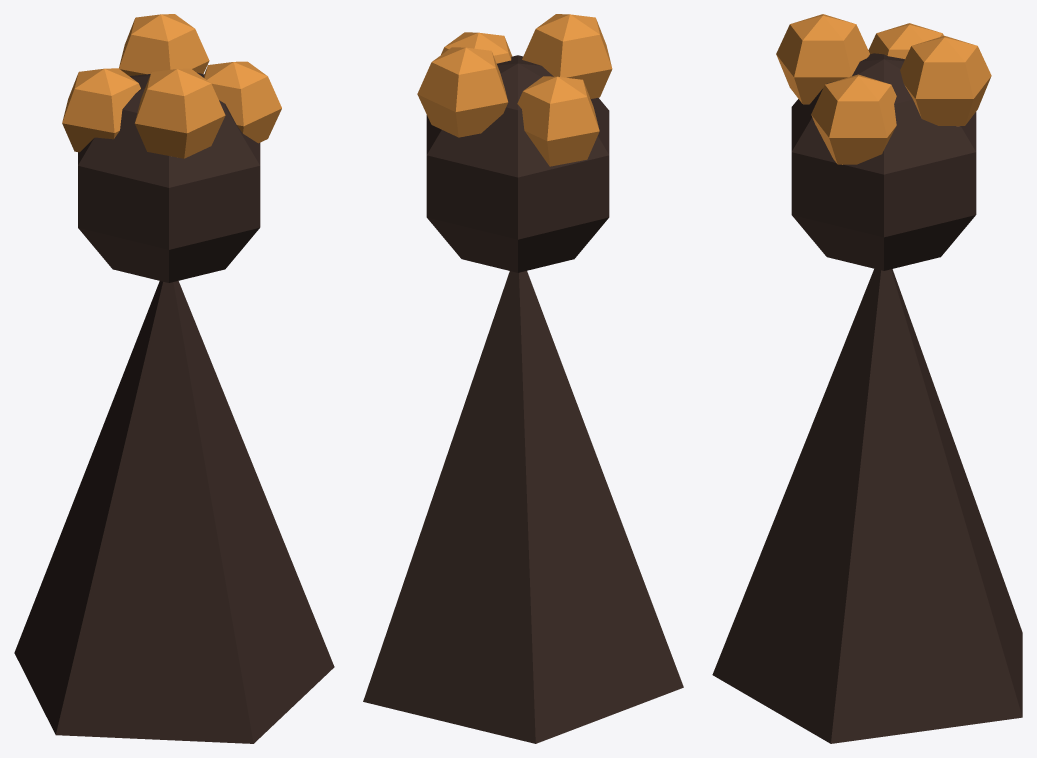
The model's file is swamp_nativeDoll.glb.
3 views of the same model, side by side, from view 1: azimuth 30°, elevation 25°; view 2: azimuth 150°, elevation 25°; view 3: azimuth 270°, elevation 25° (orthographic).
Visible parts, largest first — view 1: n1, n3, n7, n9, n11, n5; view 2: n1, n3, n11, n9, n7, n5; view 3: n1, n3, n11, n5, n7, n9.
Boxes of the visible parts, box(x1,y1,x2,y2) form: n1: box(14, 281, 334, 743); n3: box(78, 72, 260, 282); n7: box(135, 68, 225, 158); n9: box(62, 68, 140, 152); n11: box(119, 14, 209, 75); n5: box(204, 61, 281, 143); n1: box(363, 271, 683, 743); n3: box(426, 55, 609, 272); n11: box(417, 47, 508, 137); n9: box(517, 76, 599, 166); n7: box(522, 14, 612, 98); n5: box(441, 32, 512, 63); n1: box(712, 269, 1022, 743); n3: box(791, 53, 976, 270); n11: box(900, 35, 991, 126); n5: box(811, 74, 896, 164); n7: box(776, 14, 869, 104); n9: box(868, 23, 943, 58).
Bounding box in the file's own units: 0.4451 × 0.9765 × 0.4233.
